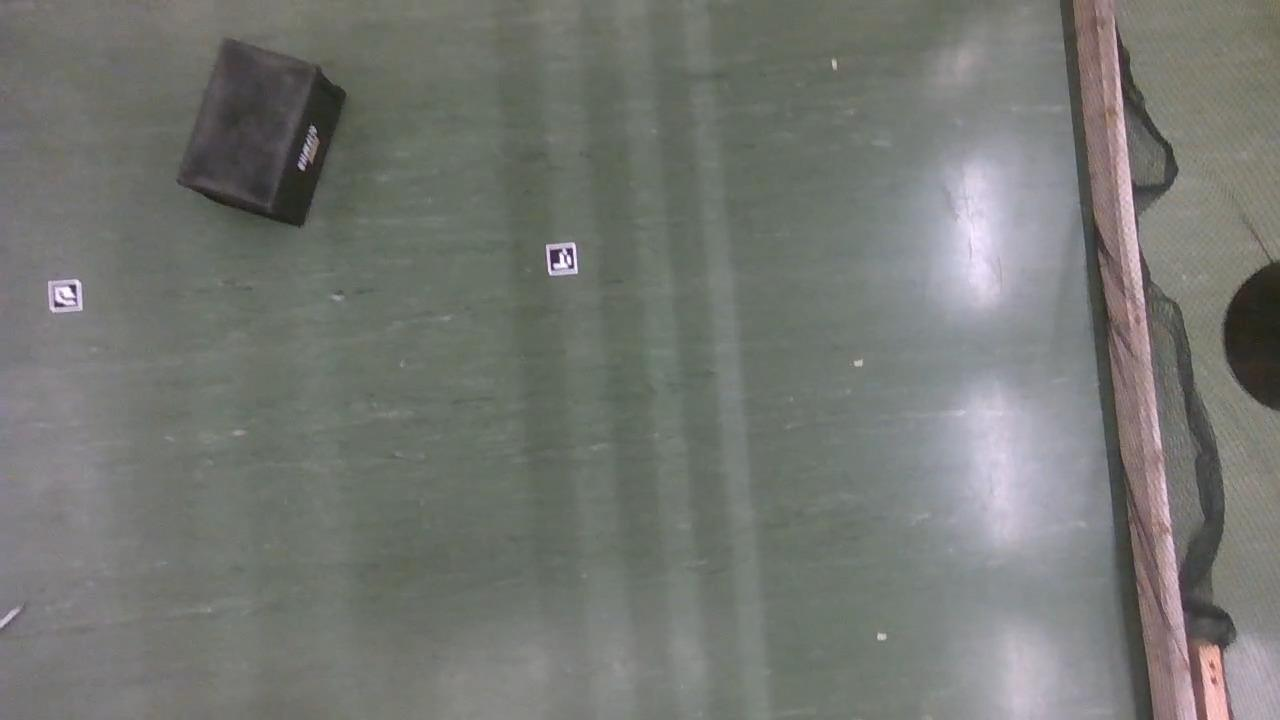probes: (0, 600, 26, 634)
rako: (174, 37, 346, 229)
